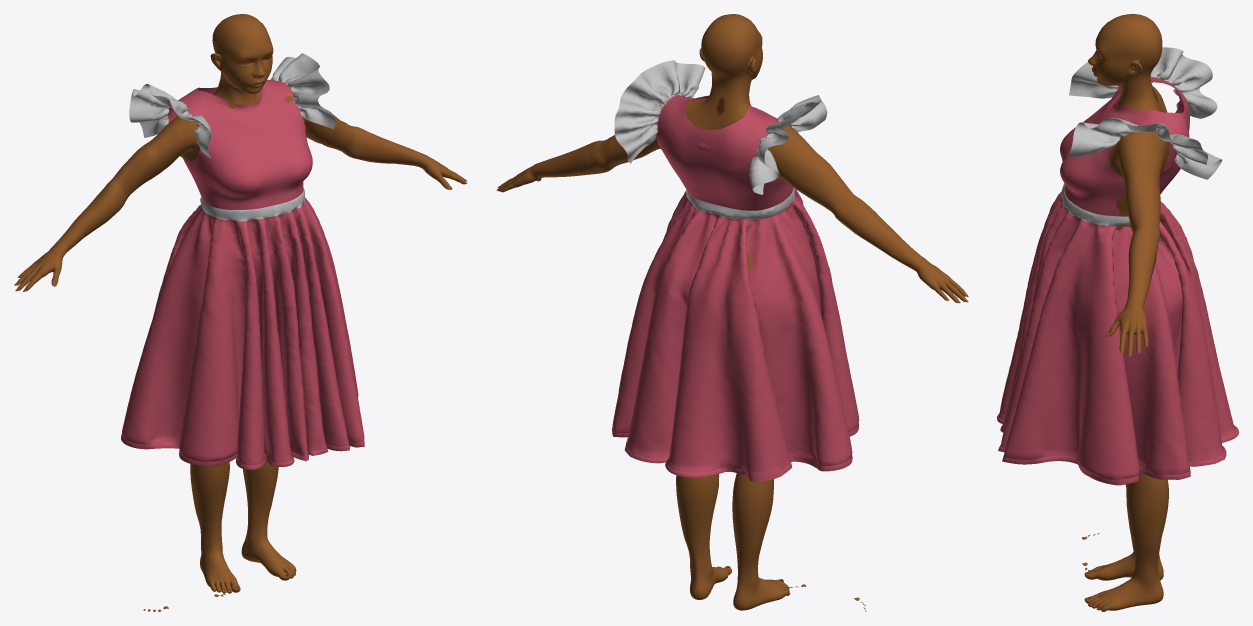
The model's file is dress4.glb.
The picture shows the model from 3 angles, left to right: view 1: azimuth 30°, elevation 25°; view 2: azimuth 150°, elevation 25°; view 3: azimuth 270°, elevation 25°; orthographic projection. The views are drawn at different scales.
Parts seen in each view (by area): view 1: PinkDrees#14 (OBJ), Body.003; view 2: PinkDrees#14 (OBJ), Body.003; view 3: PinkDrees#14 (OBJ), Body.003.
Boxes of the visible parts, bbox=[...] form: PinkDrees#14 (OBJ): bbox=[121, 53, 364, 469]; Body.003: bbox=[16, 14, 466, 593]; PinkDrees#14 (OBJ): bbox=[612, 60, 859, 481]; Body.003: bbox=[497, 14, 966, 610]; PinkDrees#14 (OBJ): bbox=[997, 47, 1238, 485]; Body.003: bbox=[1084, 14, 1169, 611].
Bounding box in the file's own units: 1.58 × 1.85 × 0.7046.
